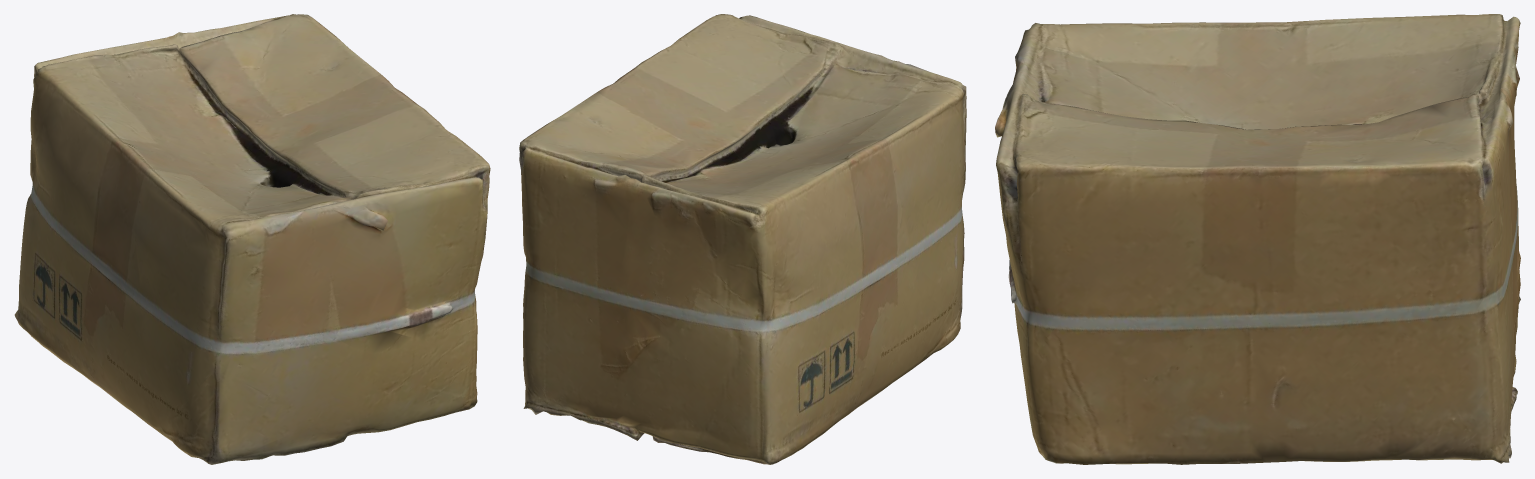
File: cardboard_box_01.glb
The picture shows the model from 3 angles, left to right: view 1: azimuth 30°, elevation 25°; view 2: azimuth 150°, elevation 25°; view 3: azimuth 270°, elevation 25°; orthographic projection. The views are drawn at different scales.
Parts seen in each view (by area): view 1: cardboard_box_01; view 2: cardboard_box_01; view 3: cardboard_box_01.
Boxes of the visible parts, x1,y1,x2,y2 form: cardboard_box_01: (14,14,490,464); cardboard_box_01: (519,14,966,464); cardboard_box_01: (995,14,1520,464).
Size of the model in its own units: 0.387 by 0.3418 by 0.5159.
1 material, 1 textured.
